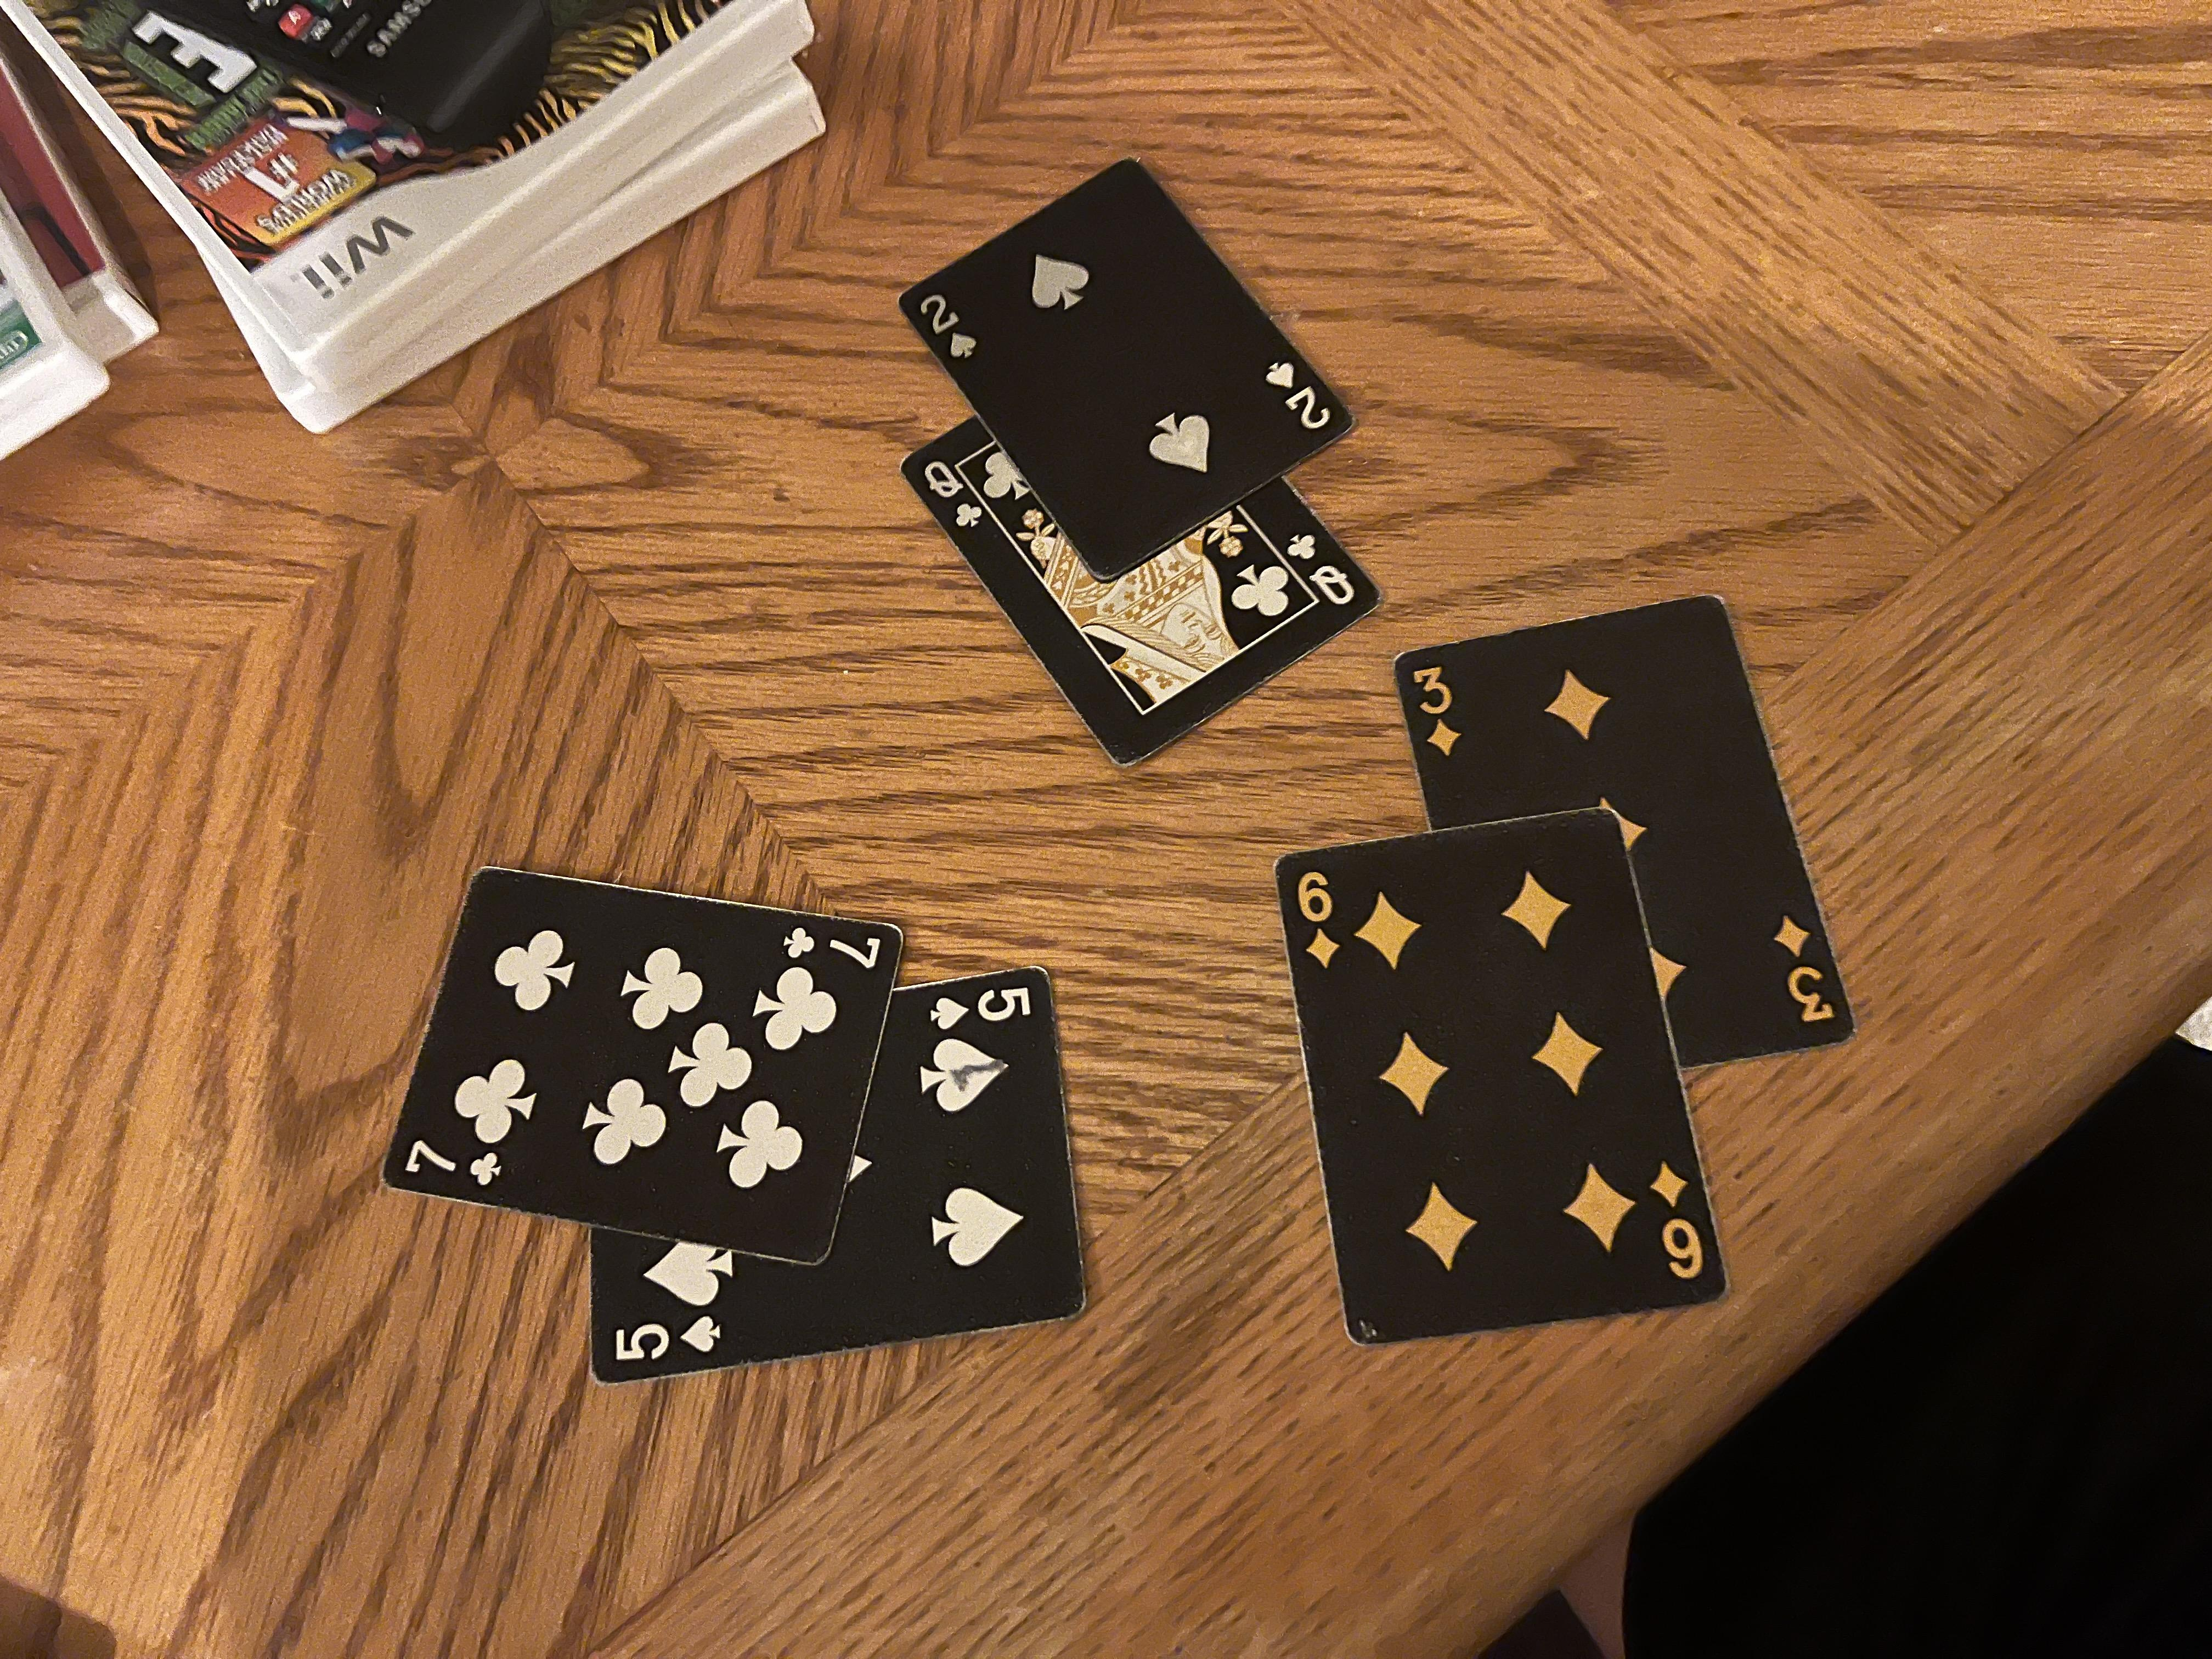2S: (1623, 948, 1740, 999), (1728, 685, 1827, 739)
3D: (836, 1330, 1007, 1380), (1207, 1053, 1331, 1103)
5S: (385, 460, 474, 547), (827, 694, 909, 775)
6D: (500, 1234, 674, 1279), (920, 971, 1061, 1007)
7C: (627, 300, 697, 378), (916, 584, 982, 664)
QC: (1395, 962, 1510, 1014), (1498, 692, 1602, 737)
